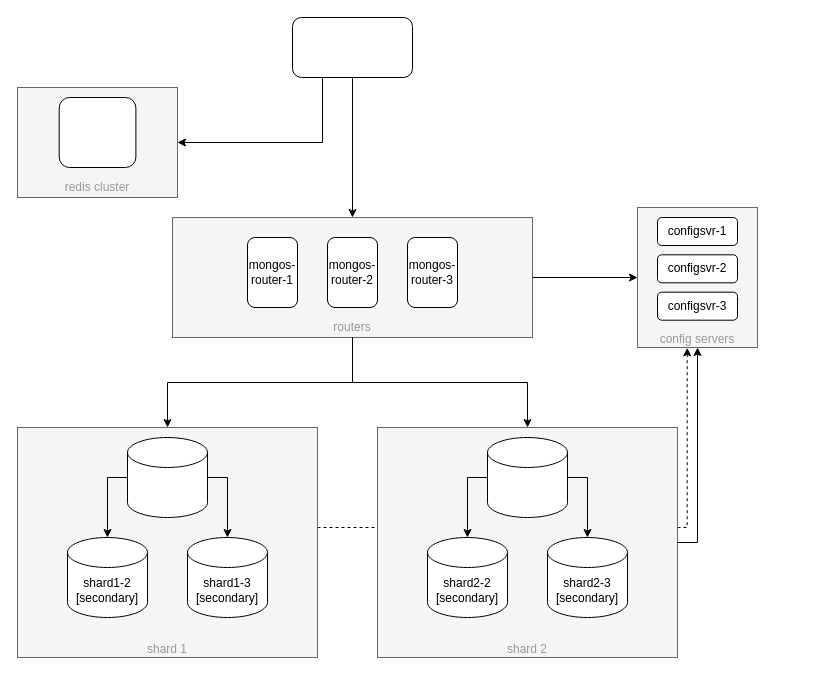
Image size: 825x675. Some labels were removed from this diagram. The shapes that lost their labels are listed below. From the top down, each one's centre as x and y in pixels, then its label:
At [352,47]: "pymongo-api".
At [97,132]: "redis".
At [167,477]: "shard1-1 [primary]".
At [527,477]: "shard2-1 [primary]".
